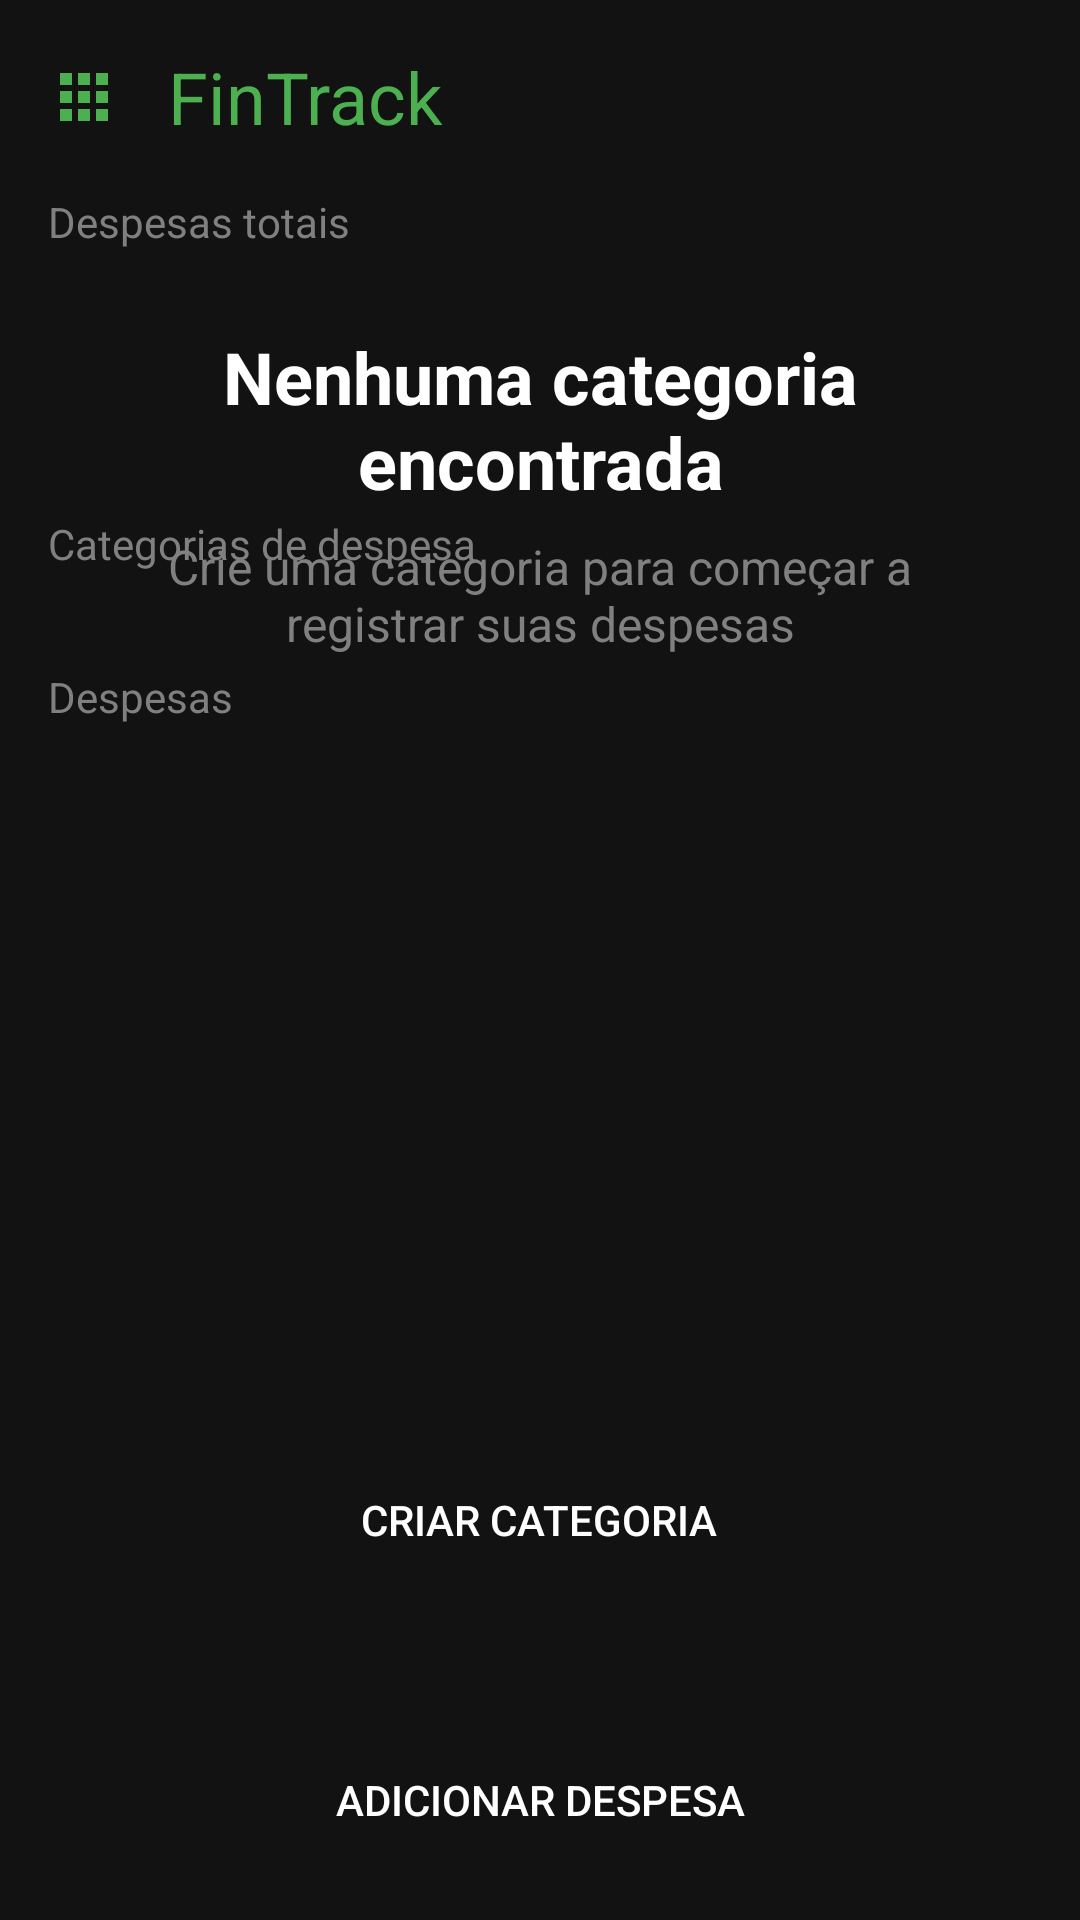

Point at icon controls on the screen. Image size 1080 × 1920, points as (x=x, y=y).
grid: (x=84, y=97)
